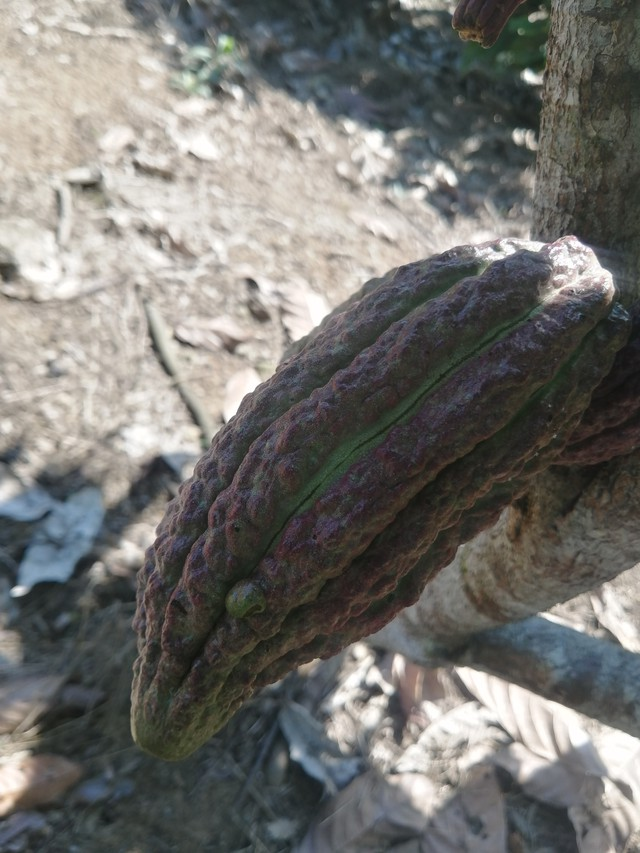Health: (113, 225, 640, 767)
